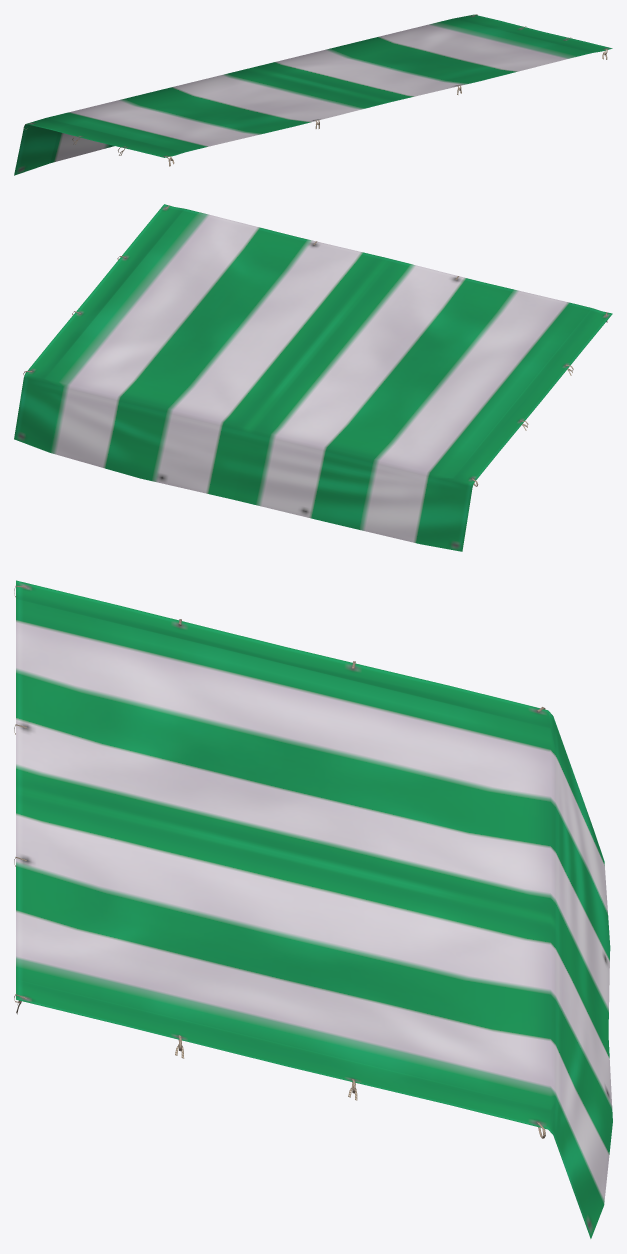
Rendered from jsf_Ceiling_s04_c04_t02.fbx.
3 views of the same model, one above another, from view 1: azimuth 30°, elevation 25°; view 2: azimuth 150°, elevation 25°; view 3: azimuth 270°, elevation 25° (orthographic). The views are drawn at different scales.
Parts seen in each view (by area): view 1: jsf_Ceiling_s04_c04_t02; view 2: jsf_Ceiling_s04_c04_t02; view 3: jsf_Ceiling_s04_c04_t02.
Part boxes in pixels (x1=…): jsf_Ceiling_s04_c04_t02: x1=14, y1=14, x2=612, y2=175; jsf_Ceiling_s04_c04_t02: x1=14, y1=204, x2=612, y2=551; jsf_Ceiling_s04_c04_t02: x1=14, y1=580, x2=612, y2=1238.
Size of the model in its own units: 394 by 106 by 234.
